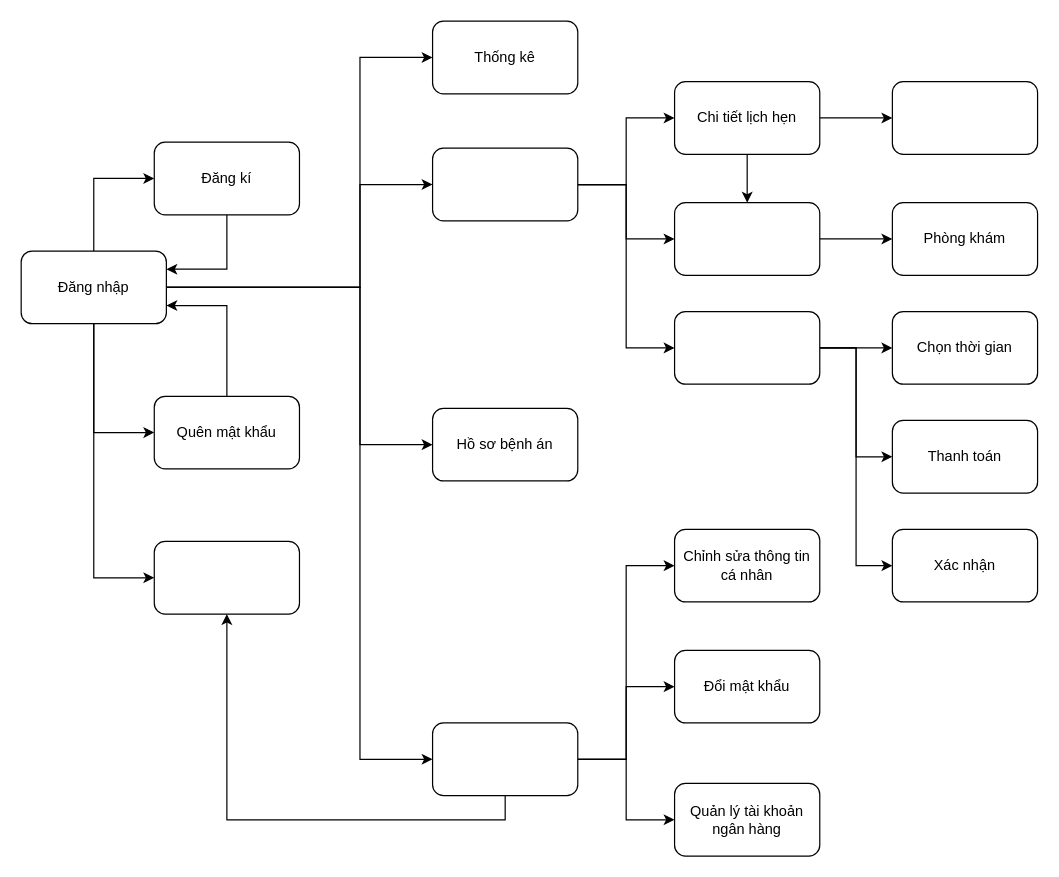
The diagram is 1059 pixels wide and 877 high, and some of its shapes have lost their labels. The centre of each missing label's shape, as x and y in pixels:
Chi tiết hồ sơ bệnh án: the point at 964,117
Cấp cứu: the point at 226,577
Lịch hẹn: the point at 504,184
Phòng chờ: the point at 746,238
Trang cá nhân: the point at 504,759
Đặt lịch khám: the point at 746,347
